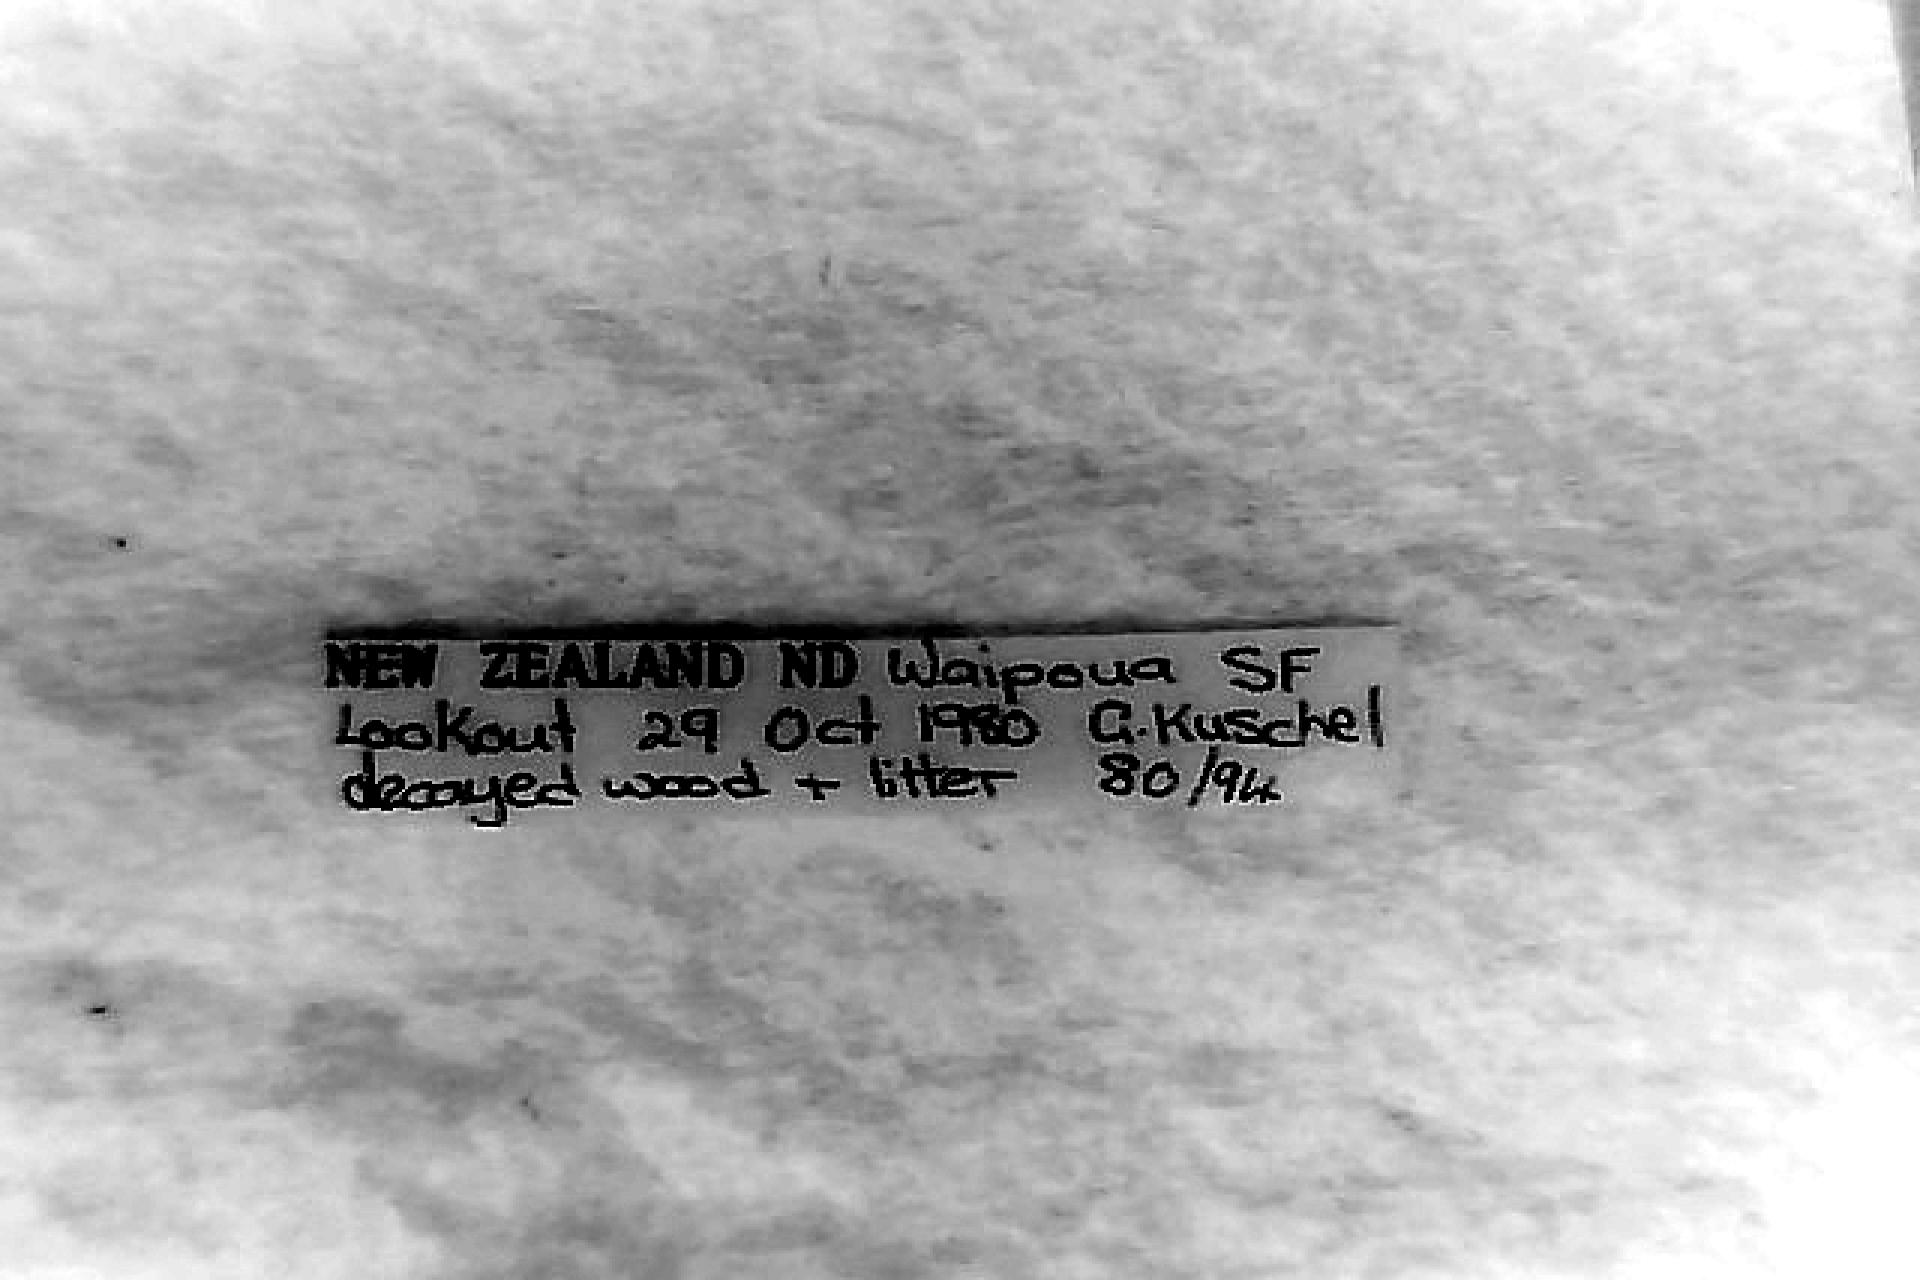mixed_label: (324, 631, 1399, 827)
